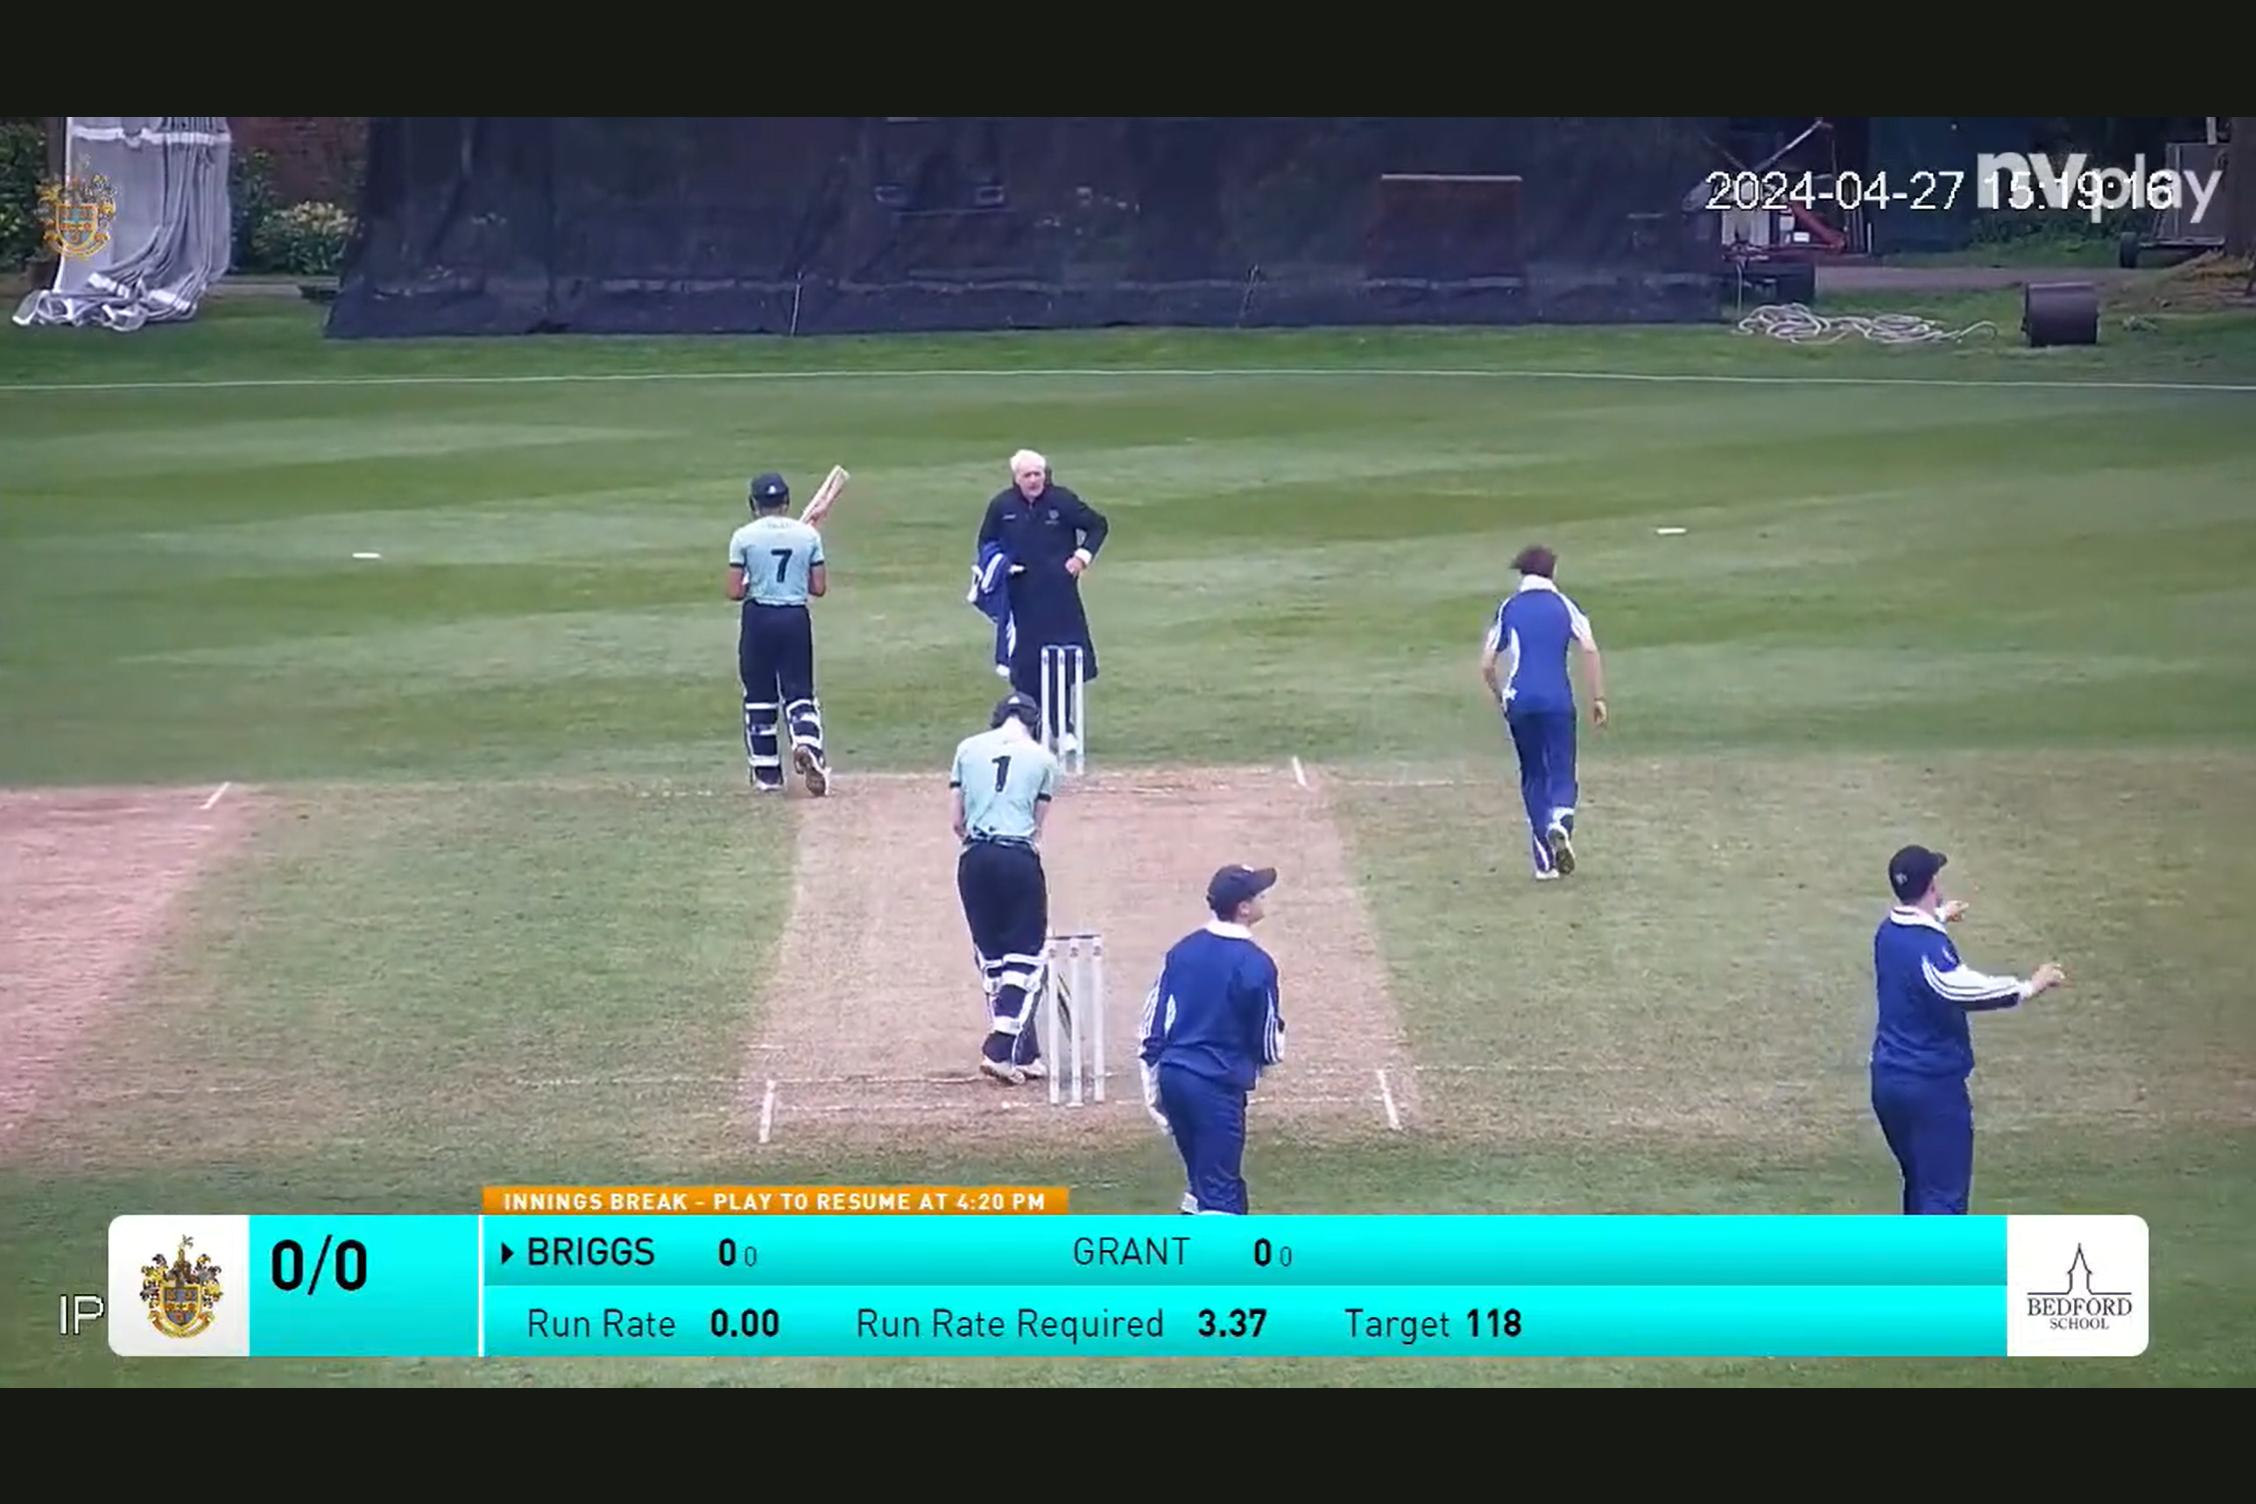batsman: (935, 688, 1081, 1084)
bowler walking back: (1460, 514, 1640, 893)
non striker: (722, 453, 875, 802)
umpire: (953, 436, 1135, 666)
wicket keeper: (1130, 833, 1331, 1209)
